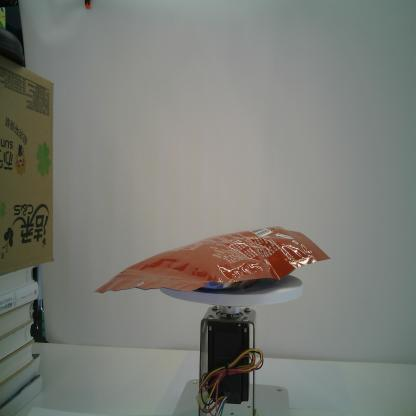Dried Food: (89, 225, 332, 295)
